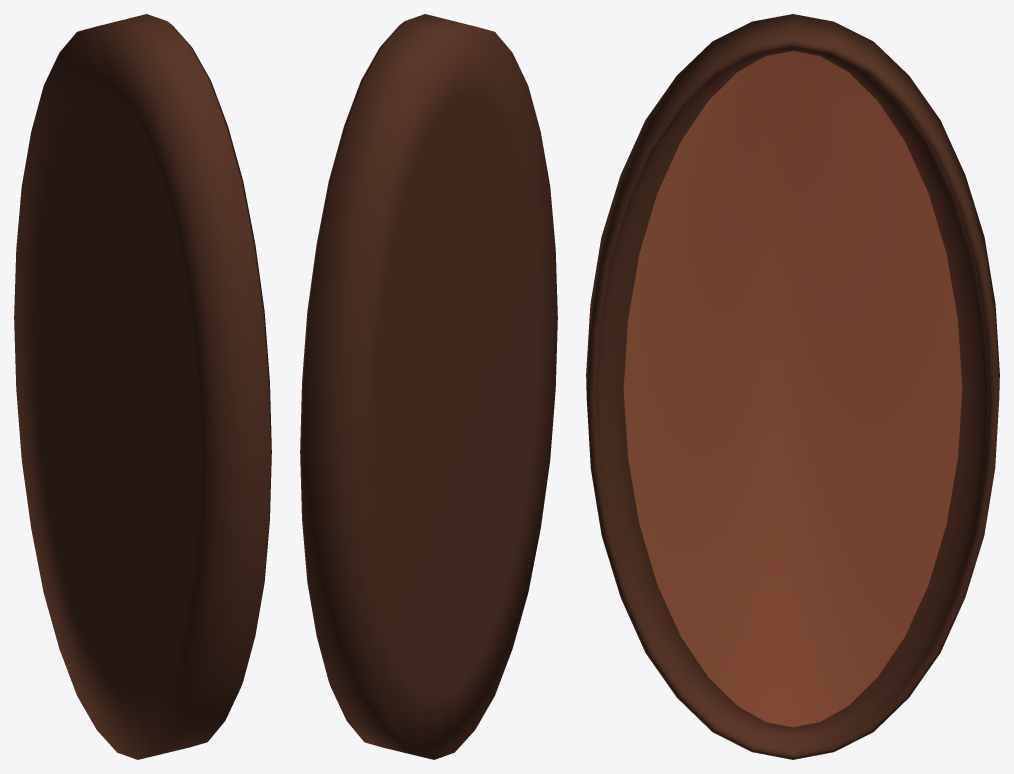
Rendered from molduraCB.fbx.
3 renders of one model, left to right at view 1: azimuth 30°, elevation 25°; view 2: azimuth 150°, elevation 25°; view 3: azimuth 270°, elevation 25°, orthographic.
Parts seen in each view (by area): view 1: Circle; view 2: Circle; view 3: Circle.
Part boxes in pixels (x1,y1,x2,y2): Circle: [14, 14, 271, 759]; Circle: [300, 14, 557, 759]; Circle: [586, 14, 999, 759].
Bounding box in the file's own units: 0.9077 × 11.26 × 5.85.
